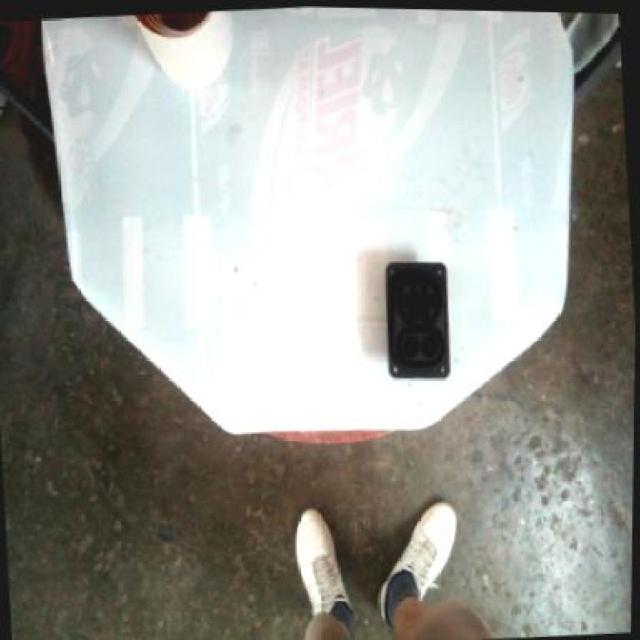CCS2: (377, 268, 464, 380)
